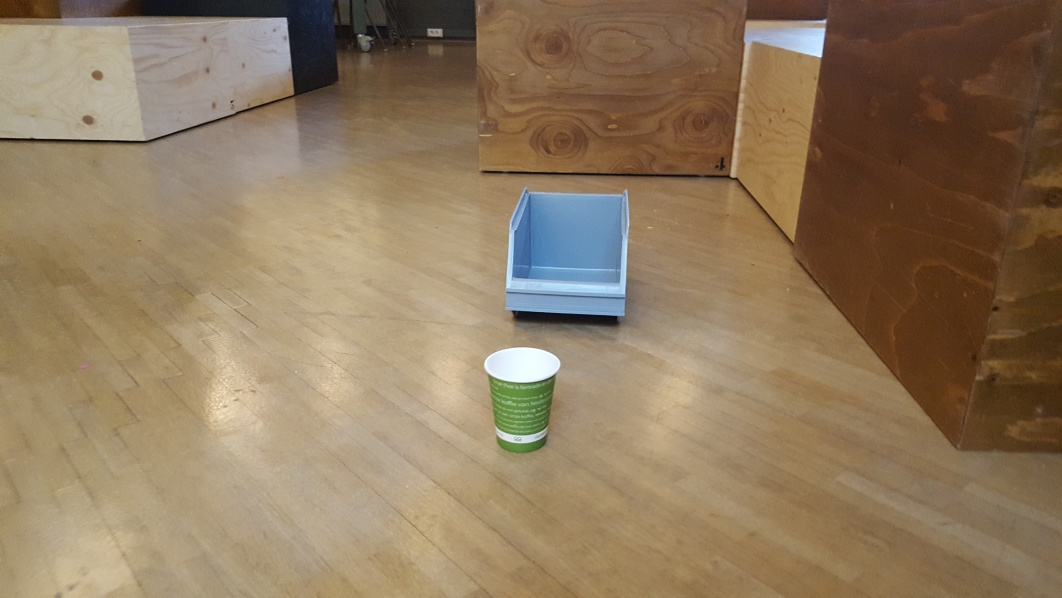cup: (482, 343, 563, 452)
tray: (504, 187, 633, 324)
